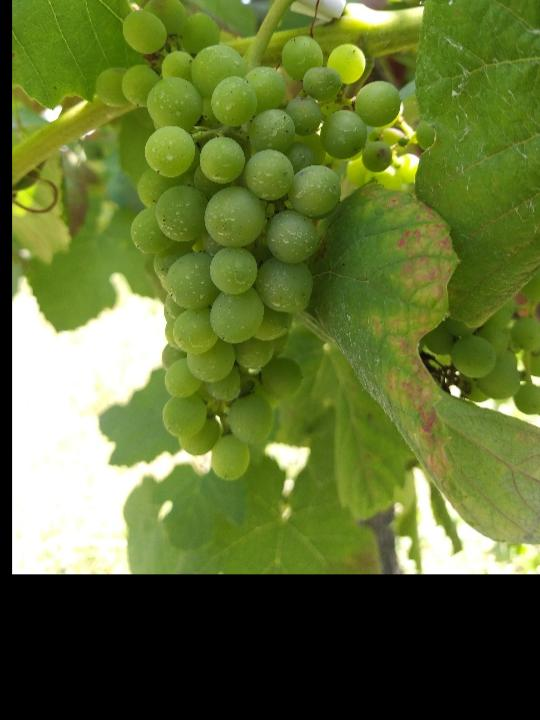grape: (94, 0, 409, 484)
